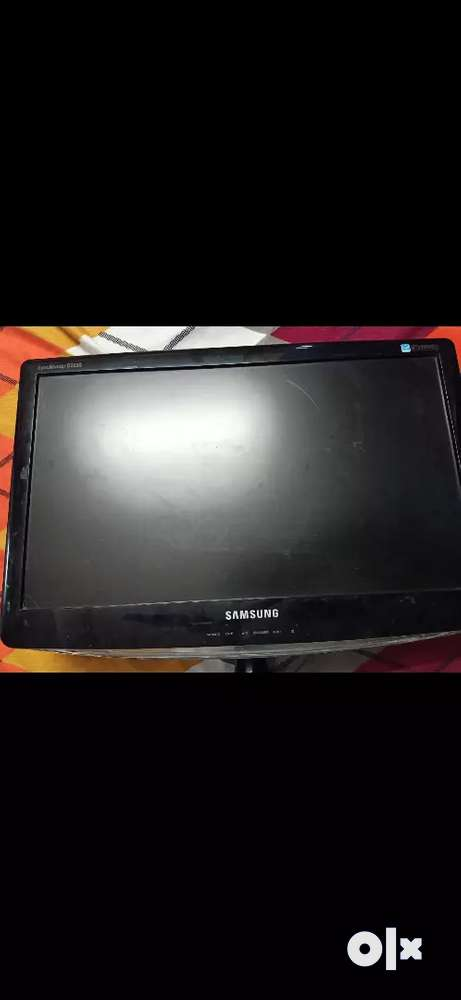samsung-monitor-b2030: (1, 328, 445, 677)
